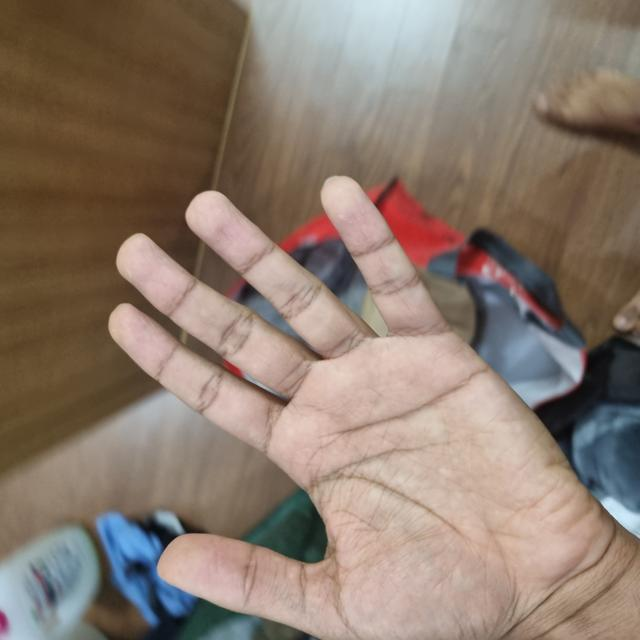Paper: (0, 111, 460, 586)
